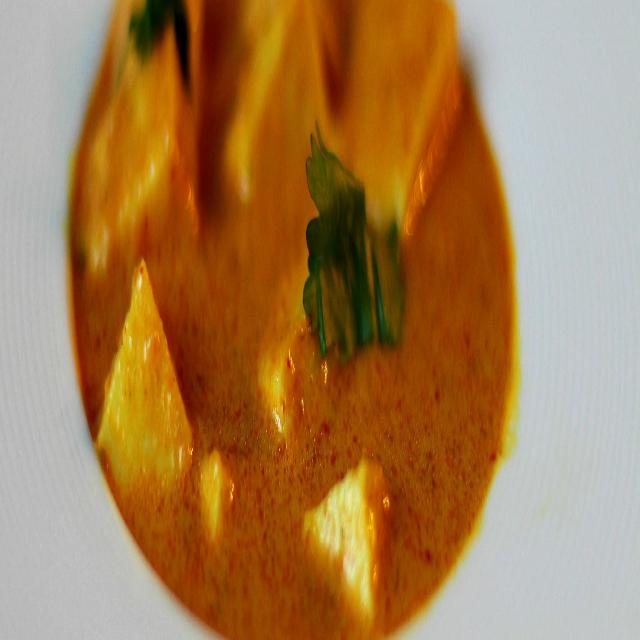ShahiPaneer: (73, 6, 513, 640)
